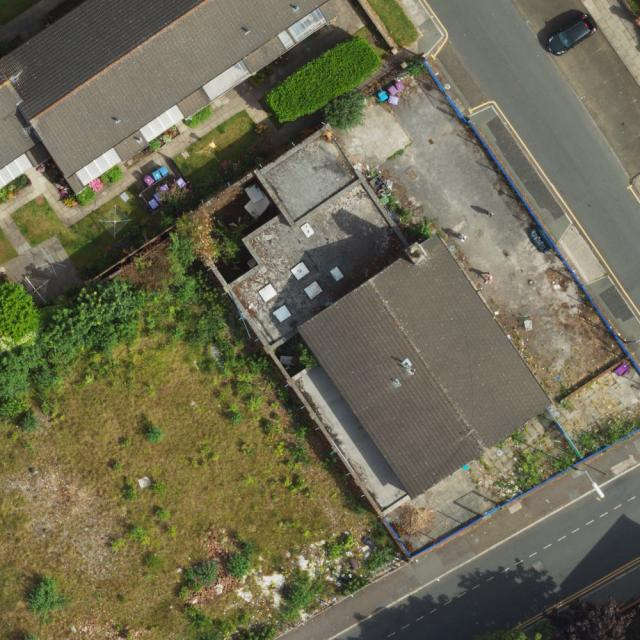roof: (223, 126, 554, 521), (0, 0, 340, 192)
skylight: (275, 4, 328, 50), (201, 57, 253, 103), (76, 146, 125, 187), (140, 104, 185, 144), (0, 153, 34, 191)
